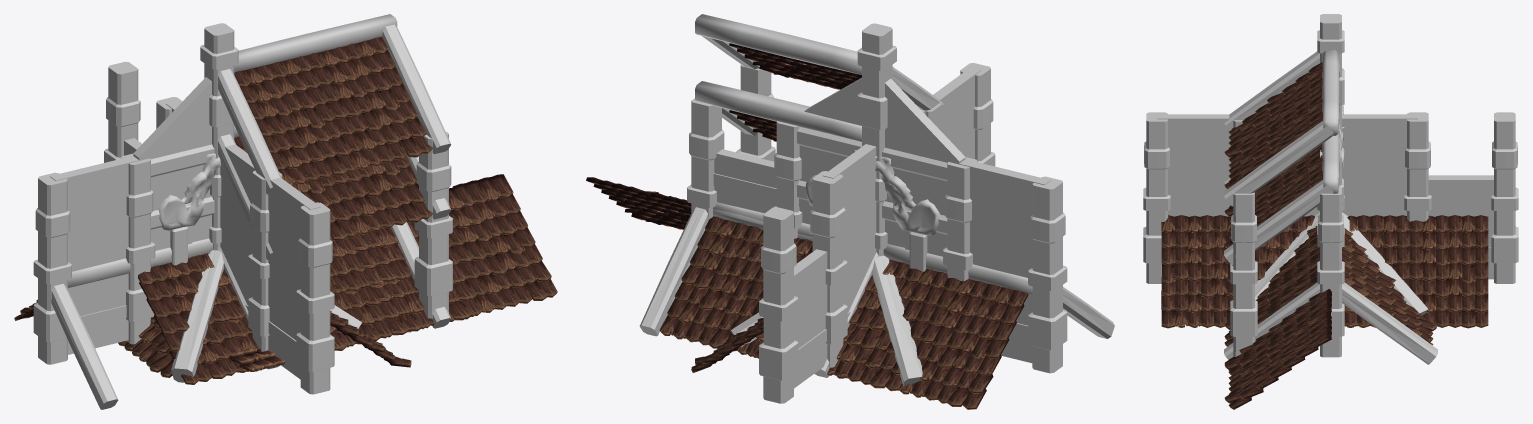
Rendered from VV-ViharaGruha [FBX for Unity].fbx.
The picture shows the model from 3 angles, left to right: view 1: azimuth 30°, elevation 25°; view 2: azimuth 150°, elevation 25°; view 3: azimuth 270°, elevation 25°; orthographic projection. The views are drawn at different scales.
Visible parts, largest first — view 1: RoofTile.11, Wall.Corner.1, Wall.Corner.2, RoofTile.16, RoofTile.12, Wall.Door.3, Wall.Pillar.10, RoofTile.19, RoofTile.20, Roof.Pillar.3, Wall.Corner.4, RoofTile.6 (+15 smaller); view 2: Wall.Corner.1, RoofTile.21, Wall.Corner.2, Wall.Corner.3, RoofTile.13, Wall.Door.3, RoofTile.12, RoofTile.11, RoofTile.19, RoofTile.14, Wall.Pillar.10, Roof.Pillar.3 (+11 smaller); view 3: RoofTile.11, RoofTile.20, RoofTile.21, Wall.Corner.1, RoofTile.12, Wall.Corner.3, Wall.Corner.2, RoofTile.16, RoofTile.13, RoofTile.14, Wall.Pillar.10, RoofTile.15 (+4 smaller).
Boxes of the visible parts, x1,y1,x2,y2 form: RoofTile.11: (218, 14, 452, 351); Wall.Corner.1: (33, 144, 334, 394); Wall.Corner.2: (33, 61, 219, 364); RoofTile.16: (350, 174, 557, 335); RoofTile.12: (213, 125, 452, 351); Wall.Door.3: (133, 77, 220, 265); Wall.Pillar.10: (200, 23, 282, 350); RoofTile.19: (118, 250, 341, 382); RoofTile.20: (138, 253, 361, 384); Roof.Pillar.3: (51, 238, 212, 409); Wall.Corner.4: (212, 157, 282, 350); RoofTile.6: (195, 239, 387, 371); Wall.Corner.1: (862, 63, 1067, 373); RoofTile.21: (732, 259, 1028, 409); Wall.Corner.2: (759, 145, 1067, 403); Wall.Corner.3: (774, 122, 884, 367); RoofTile.13: (639, 207, 826, 374); Wall.Door.3: (804, 78, 965, 271); RoofTile.12: (687, 81, 884, 256); RoofTile.11: (695, 14, 941, 161); RoofTile.19: (731, 255, 922, 390); RoofTile.14: (660, 211, 878, 377); Wall.Pillar.10: (857, 23, 944, 153); Roof.Pillar.3: (883, 244, 1114, 338); RoofTile.11: (1224, 50, 1339, 356); RoofTile.20: (1255, 215, 1488, 328); RoofTile.21: (1161, 215, 1427, 328); Wall.Corner.1: (1143, 68, 1343, 283); RoofTile.12: (1224, 122, 1344, 357); Wall.Corner.3: (1320, 112, 1431, 247); Wall.Corner.2: (1318, 112, 1518, 283); RoofTile.16: (1224, 272, 1331, 409); RoofTile.13: (1224, 212, 1437, 364); RoofTile.14: (1224, 229, 1437, 346); Wall.Pillar.10: (1229, 14, 1344, 166); RoofTile.15: (1224, 271, 1331, 371).
Bounding box in the file's own units: 11.13 × 7.04 × 8.63.
